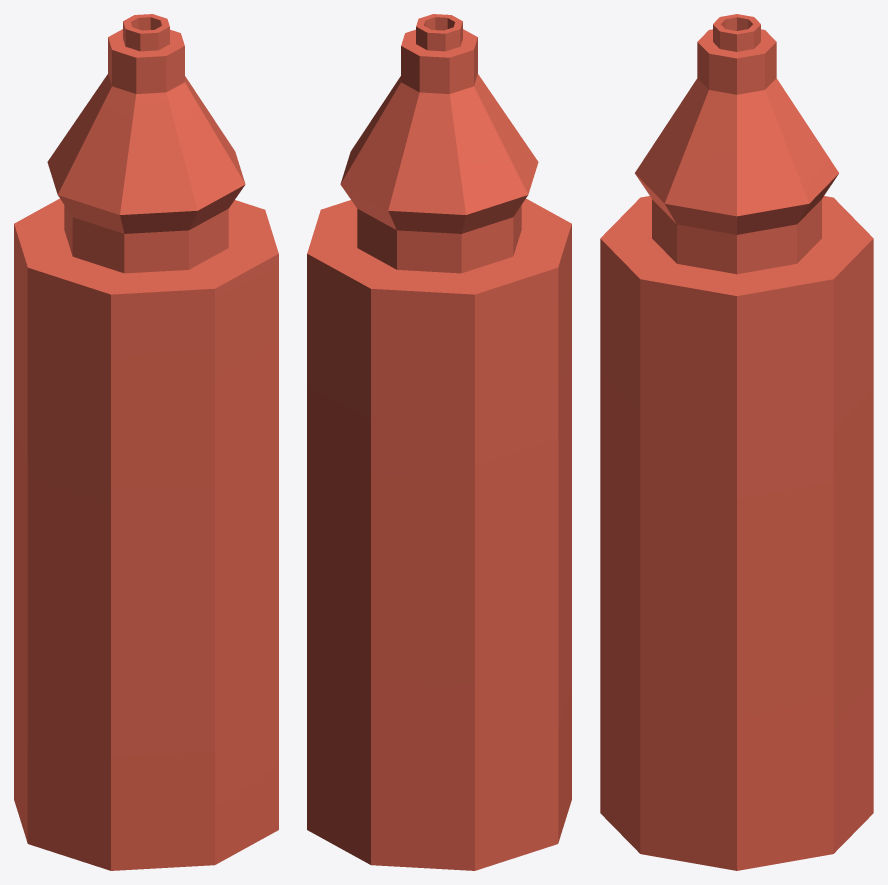
The model's file is sauce2.glb.
3 views of the same model, side by side, from view 1: azimuth 30°, elevation 25°; view 2: azimuth 150°, elevation 25°; view 3: azimuth 270°, elevation 25° (orthographic).
Parts seen in each view (by area): view 1: Sauce2.001; view 2: Sauce2.001; view 3: Sauce2.001.
Part boxes in pixels (bbox=[...]): Sauce2.001: bbox=[14, 14, 278, 870]; Sauce2.001: bbox=[307, 14, 571, 870]; Sauce2.001: bbox=[600, 14, 873, 870].
Size of the model in its own units: 0.0974 by 0.3103 by 0.0974.
1 material, 1 textured.
